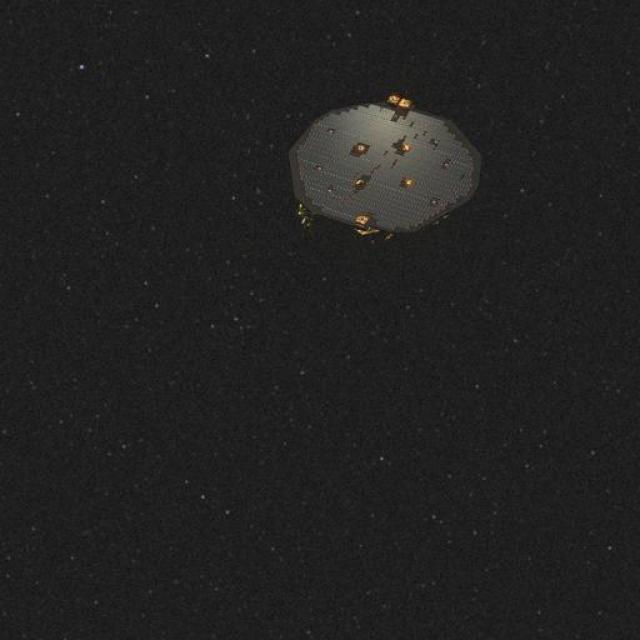lisa_pathfinder: (259, 66, 493, 261)
